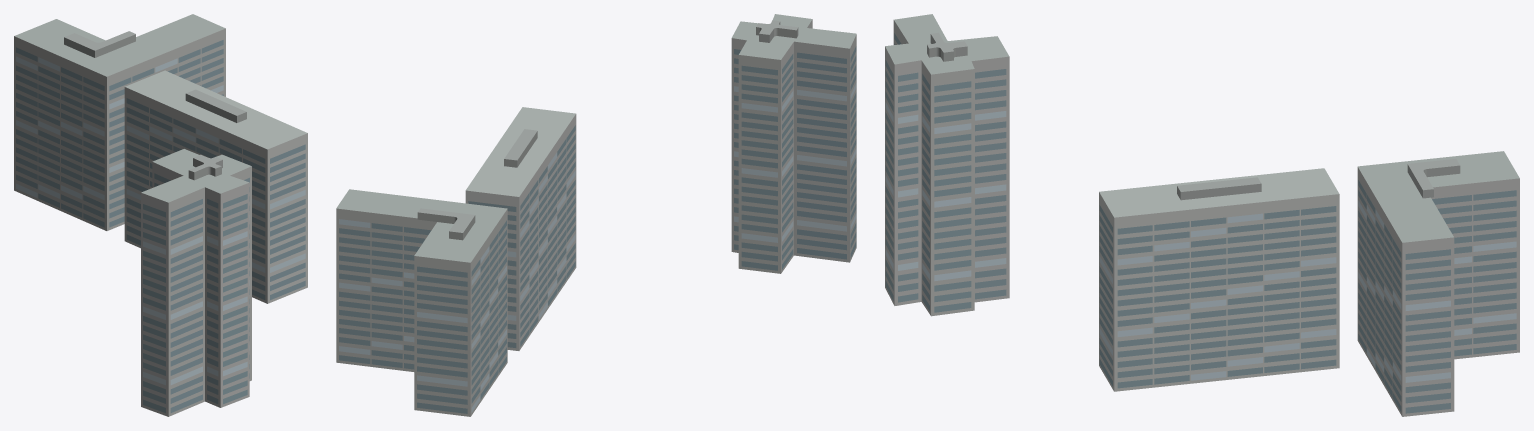
Rendered from apt-a14281701.glb.
3 renders of one model, left to right at view 1: azimuth 30°, elevation 25°; view 2: azimuth 150°, elevation 25°; view 3: azimuth 270°, elevation 25°, orthographic. The views are drawn at different scales.
Parts seen in each view (by area): view 1: apt-a14281701; view 2: apt-a14281701; view 3: apt-a14281701.
Boxes of the visible parts, bbox=[...] form: apt-a14281701: bbox=[14, 14, 307, 416]; apt-a14281701: bbox=[336, 14, 856, 416]; apt-a14281701: bbox=[885, 14, 1519, 416].
Size of the model in its own units: 91.08 by 66 by 151.
